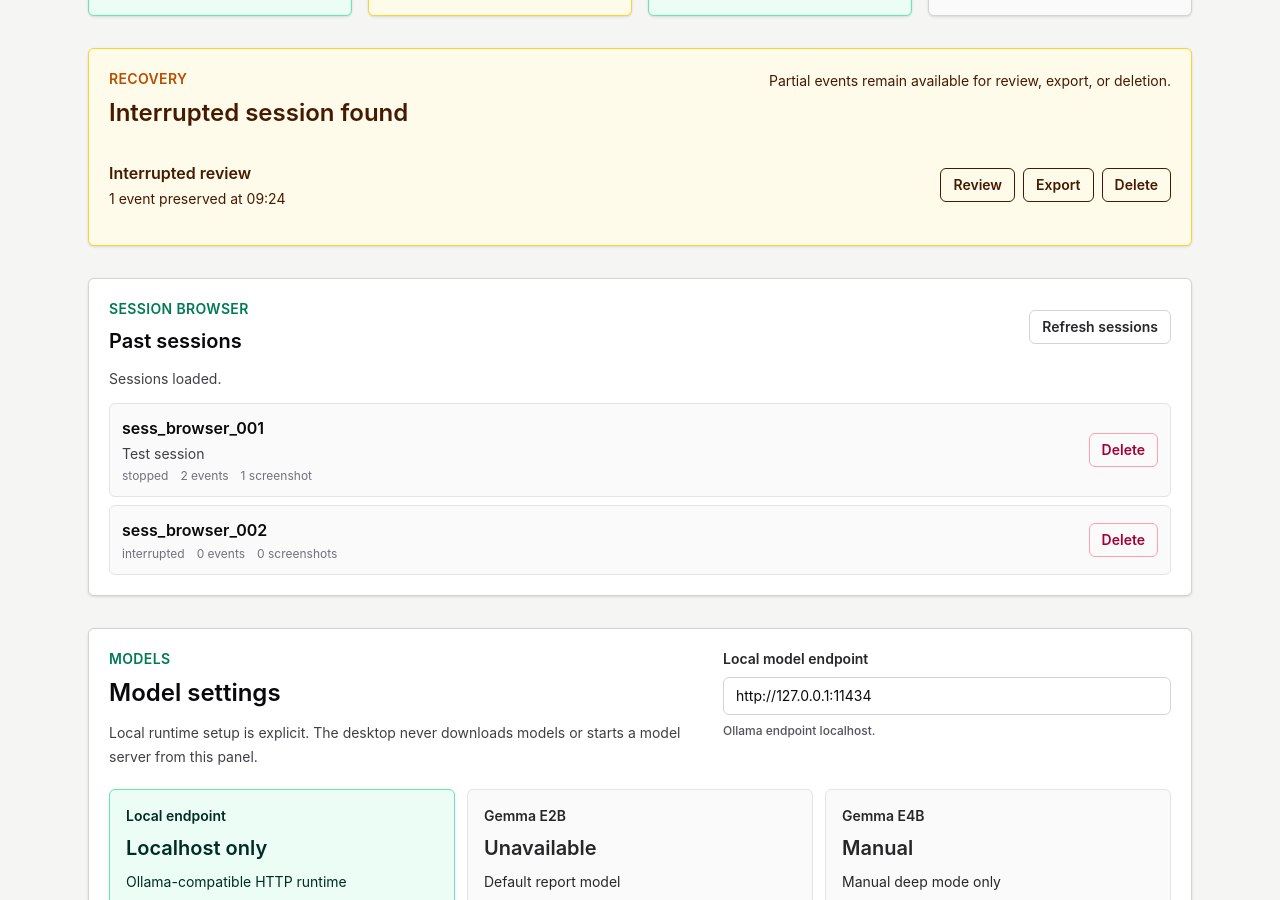
Test: session browser deletes a selected session through the bridge
(page scrolled)
Expected: the text "sess_browser_001" is shown, [122, 418, 264, 438]
Click the button with aria-label "Delete session sess_browser_001".
click(1123, 450)  # box [1089, 433, 1158, 467]
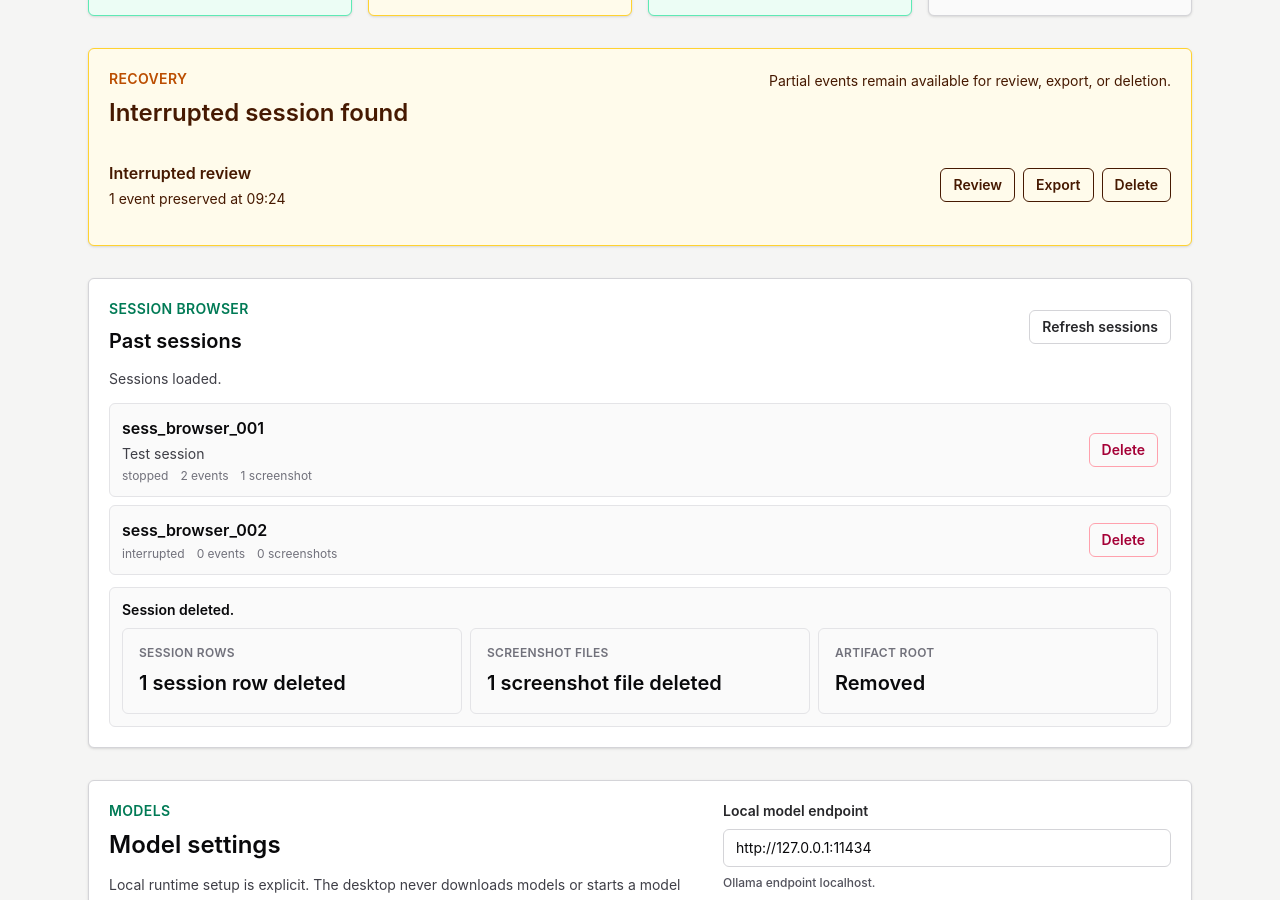
Expected: the text "Session deleted." is shown, [122, 601, 234, 618]
Expected: the text "1 session row deleted" is shown, [139, 671, 346, 695]
